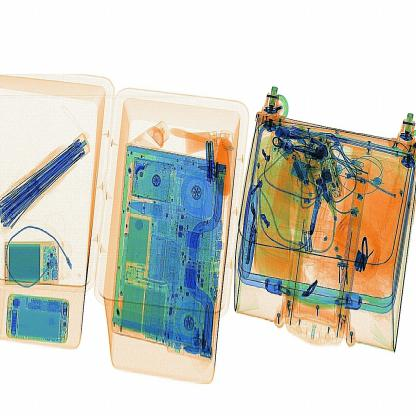scissors: (197, 125, 227, 202)
